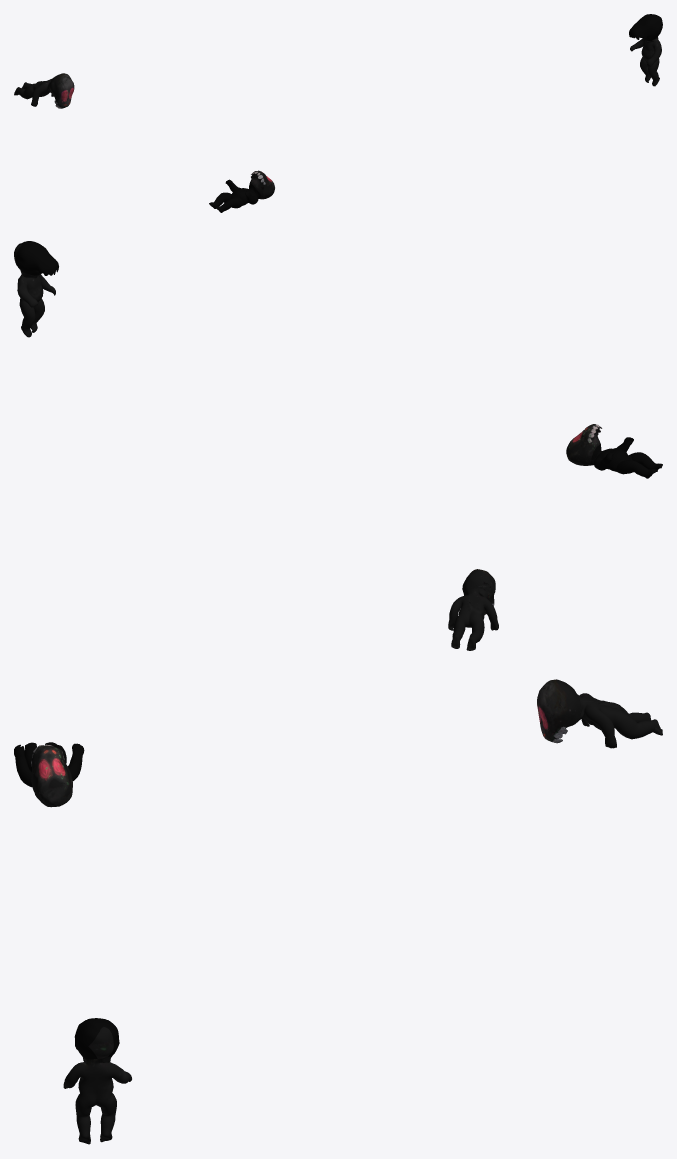
Rendered from Puppe1R.glb.
3 views of the same model, one above another, from view 1: azimuth 30°, elevation 25°; view 2: azimuth 150°, elevation 25°; view 3: azimuth 270°, elevation 25° (orthographic). The views are drawn at different scales.
Parts seen in each view (by area): view 1: Retopo_Puppe_1, Retopo_Puppe_4, Retopo_Puppe_13; view 2: Retopo_Puppe_13, Retopo_Puppe_1, Retopo_Puppe_4; view 3: Retopo_Puppe_1, Retopo_Puppe_13, Retopo_Puppe_4.
Boxes of the visible parts, x1,y1,x2,y2 form: Retopo_Puppe_1: [629, 14, 662, 86]; Retopo_Puppe_4: [209, 170, 274, 212]; Retopo_Puppe_13: [14, 73, 74, 108]; Retopo_Puppe_13: [448, 569, 498, 650]; Retopo_Puppe_1: [14, 241, 58, 337]; Retopo_Puppe_4: [566, 424, 662, 478]; Retopo_Puppe_1: [63, 1018, 131, 1144]; Retopo_Puppe_13: [537, 679, 662, 748]; Retopo_Puppe_4: [14, 742, 84, 807].
Size of the model in its own units: 9.44 by 1.39 by 5.91.
2 materials, 2 textured.
